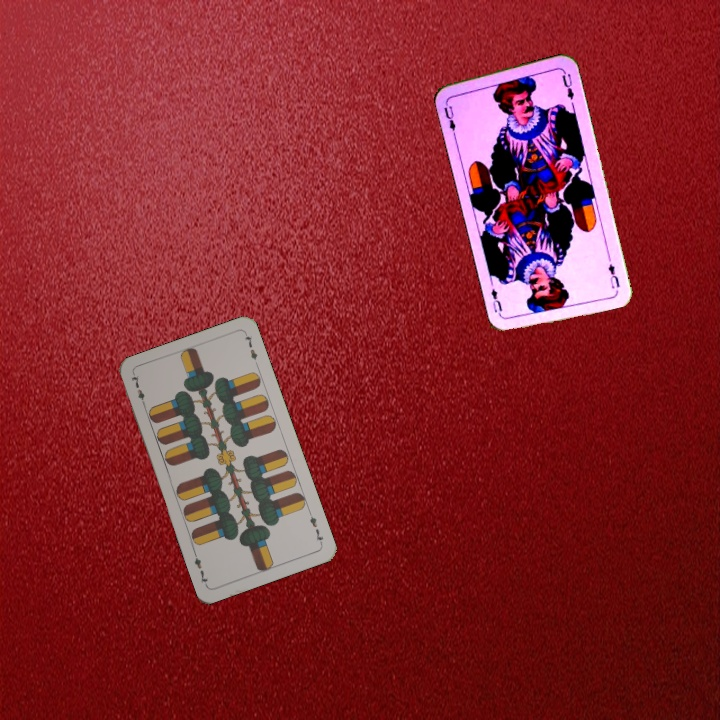E7: (305, 508, 326, 547), (127, 371, 148, 410)
EU: (440, 97, 458, 138), (604, 260, 622, 291)
